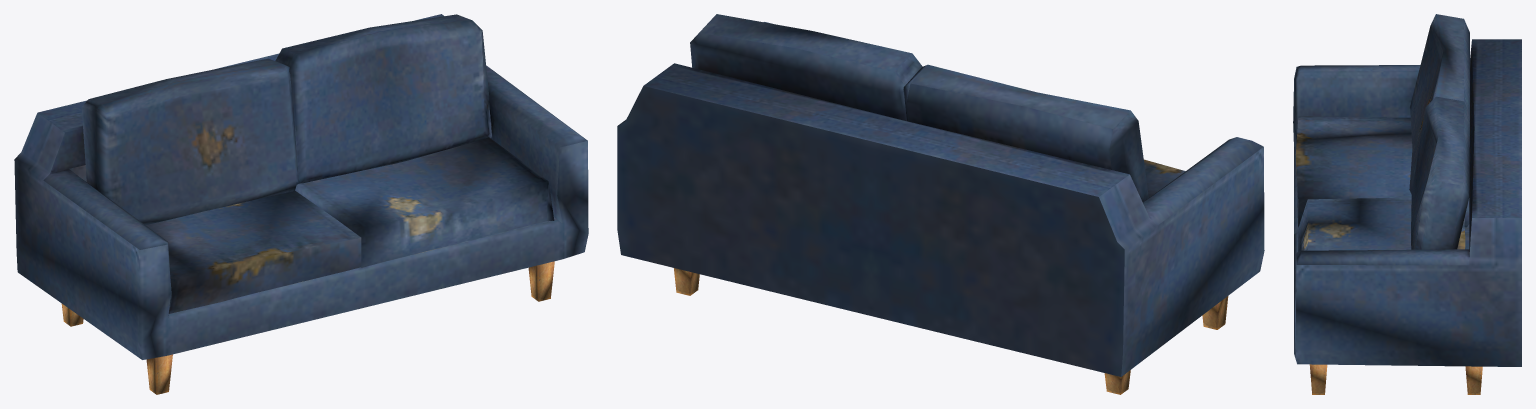
File: Prop_Sofa01.glb
The picture shows the model from 3 angles, left to right: view 1: azimuth 30°, elevation 25°; view 2: azimuth 150°, elevation 25°; view 3: azimuth 270°, elevation 25°; orthographic projection. The views are drawn at different scales.
Visible parts, largest first — view 1: xiutz_sofa01; view 2: xiutz_sofa01; view 3: xiutz_sofa01.
Boxes of the visible parts, left/top/right/bottom form: xiutz_sofa01: left=14, top=14, right=588, bottom=394; xiutz_sofa01: left=617, top=14, right=1264, bottom=394; xiutz_sofa01: left=1293, top=14, right=1521, bottom=394.
Bounding box in the file's own units: 3.75 × 1.91 × 1.82.
Materials: 1 (1 with a texture image).
